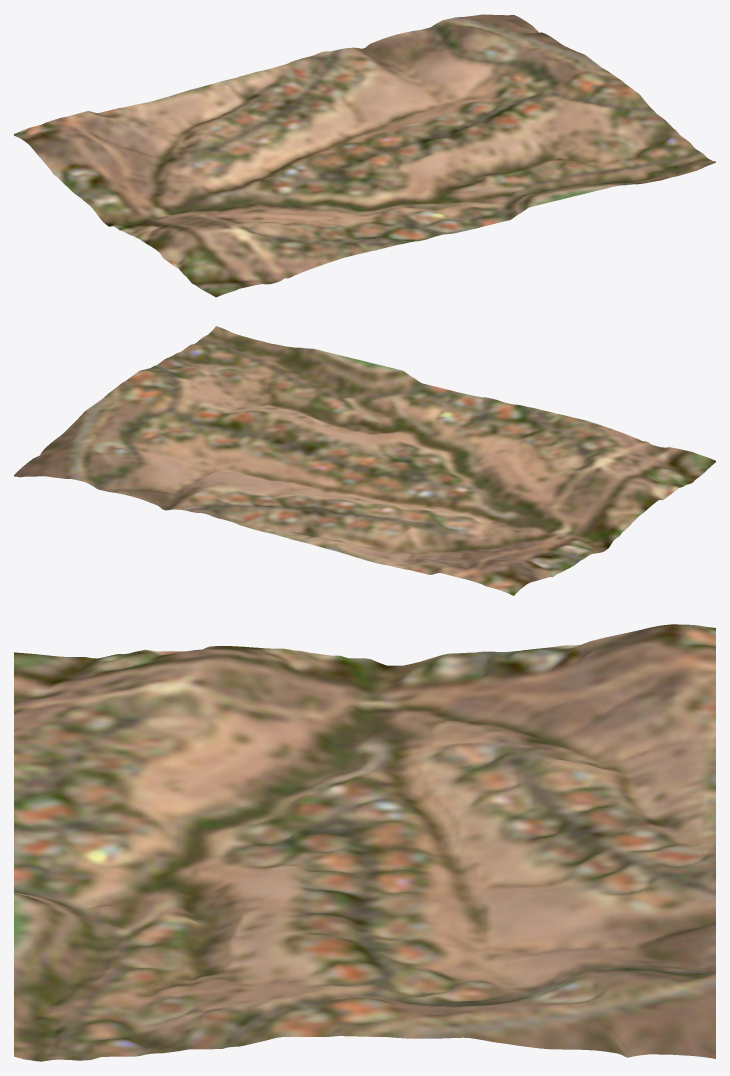
The model's file is terrain_r6_c0.glb.
3 renders of one model, top to bottom at view 1: azimuth 30°, elevation 25°; view 2: azimuth 150°, elevation 25°; view 3: azimuth 270°, elevation 25°, orthographic. The views are drawn at different scales.
Visible parts, largest first — view 1: terrain_r6_c0_lod0; view 2: terrain_r6_c0_lod0; view 3: terrain_r6_c0_lod0.
Part boxes in pixels (x1,y1,x2,y2): terrain_r6_c0_lod0: (14,14,715,297); terrain_r6_c0_lod0: (14,326,715,595); terrain_r6_c0_lod0: (14,624,715,1061).
Size of the model in its own units: 1125 by 76.43 by 787.
1 material, 1 textured.
